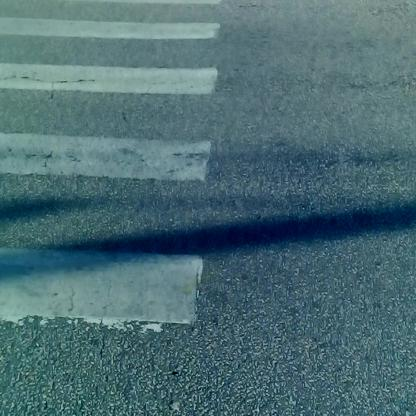crosswalk: (8, 1, 207, 339)
